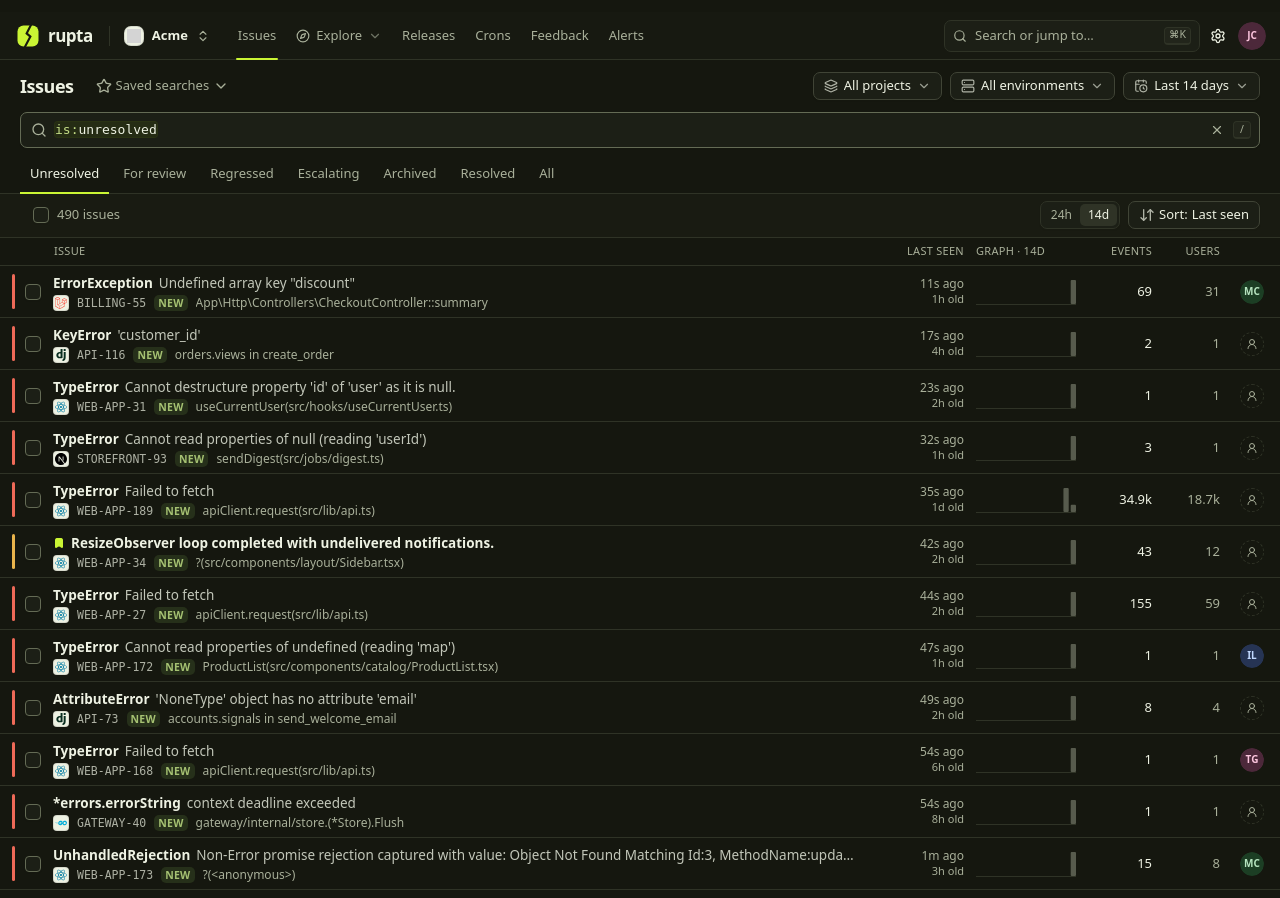
Test: organization icon › shows the favicon in the organization menu and falls back to the initial
What coordinates should you click on to do the following:
click the button with aria-label "Organization: Acme"
I would click on:
 (167, 36)
Its box is [118,20,216,52].
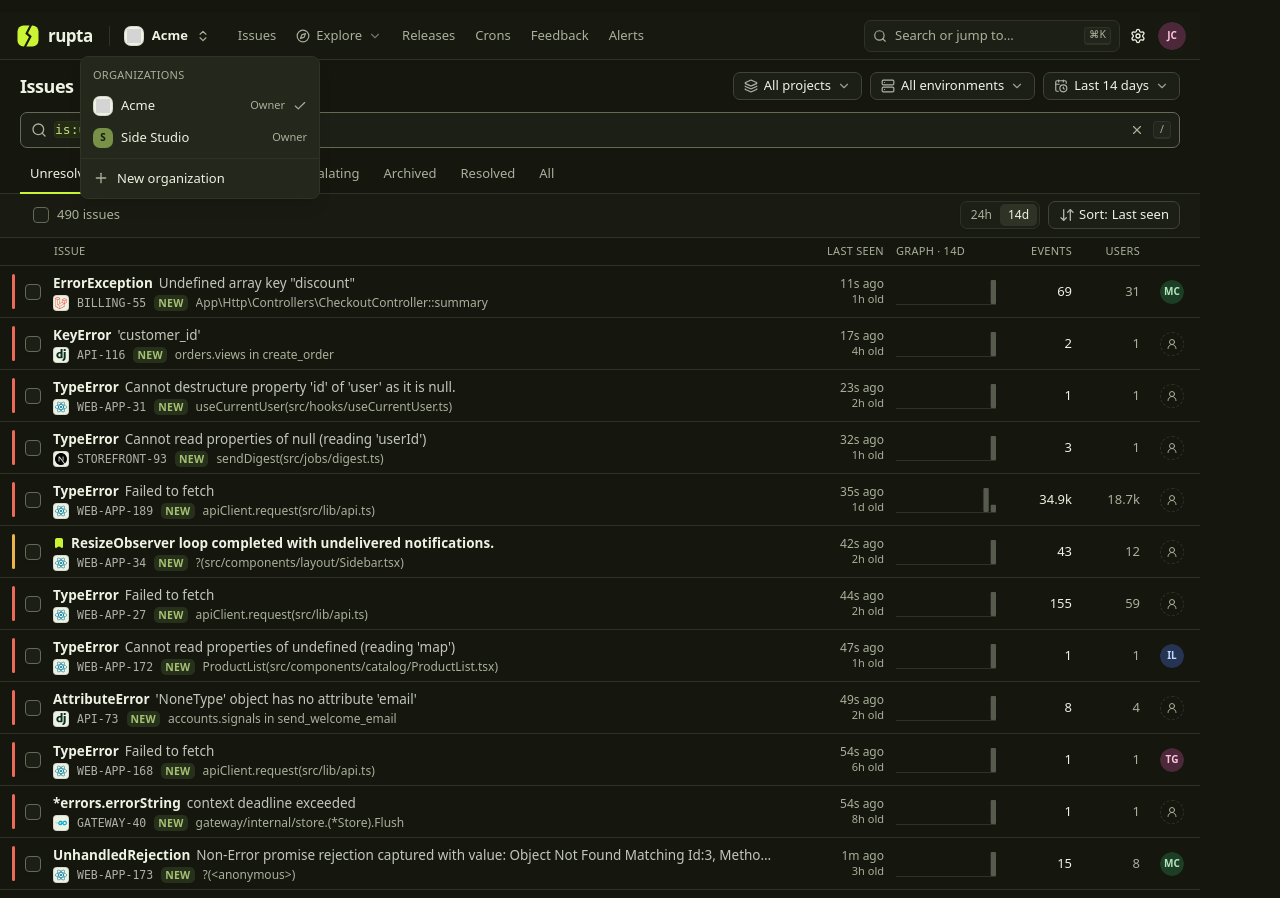
Check: the menu item "S Side Studio owner" is shown, box [85,122,315,154]
